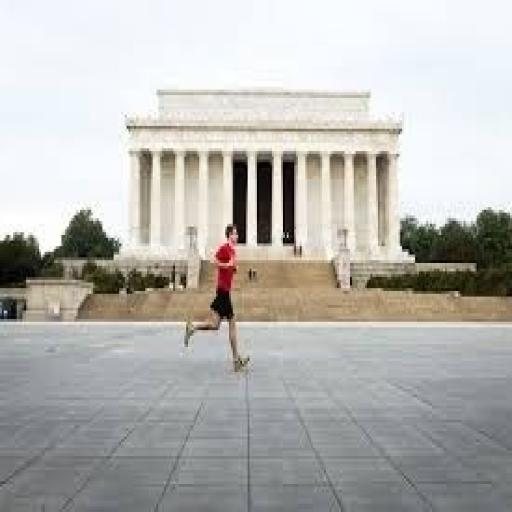running: (181, 218, 253, 375)
